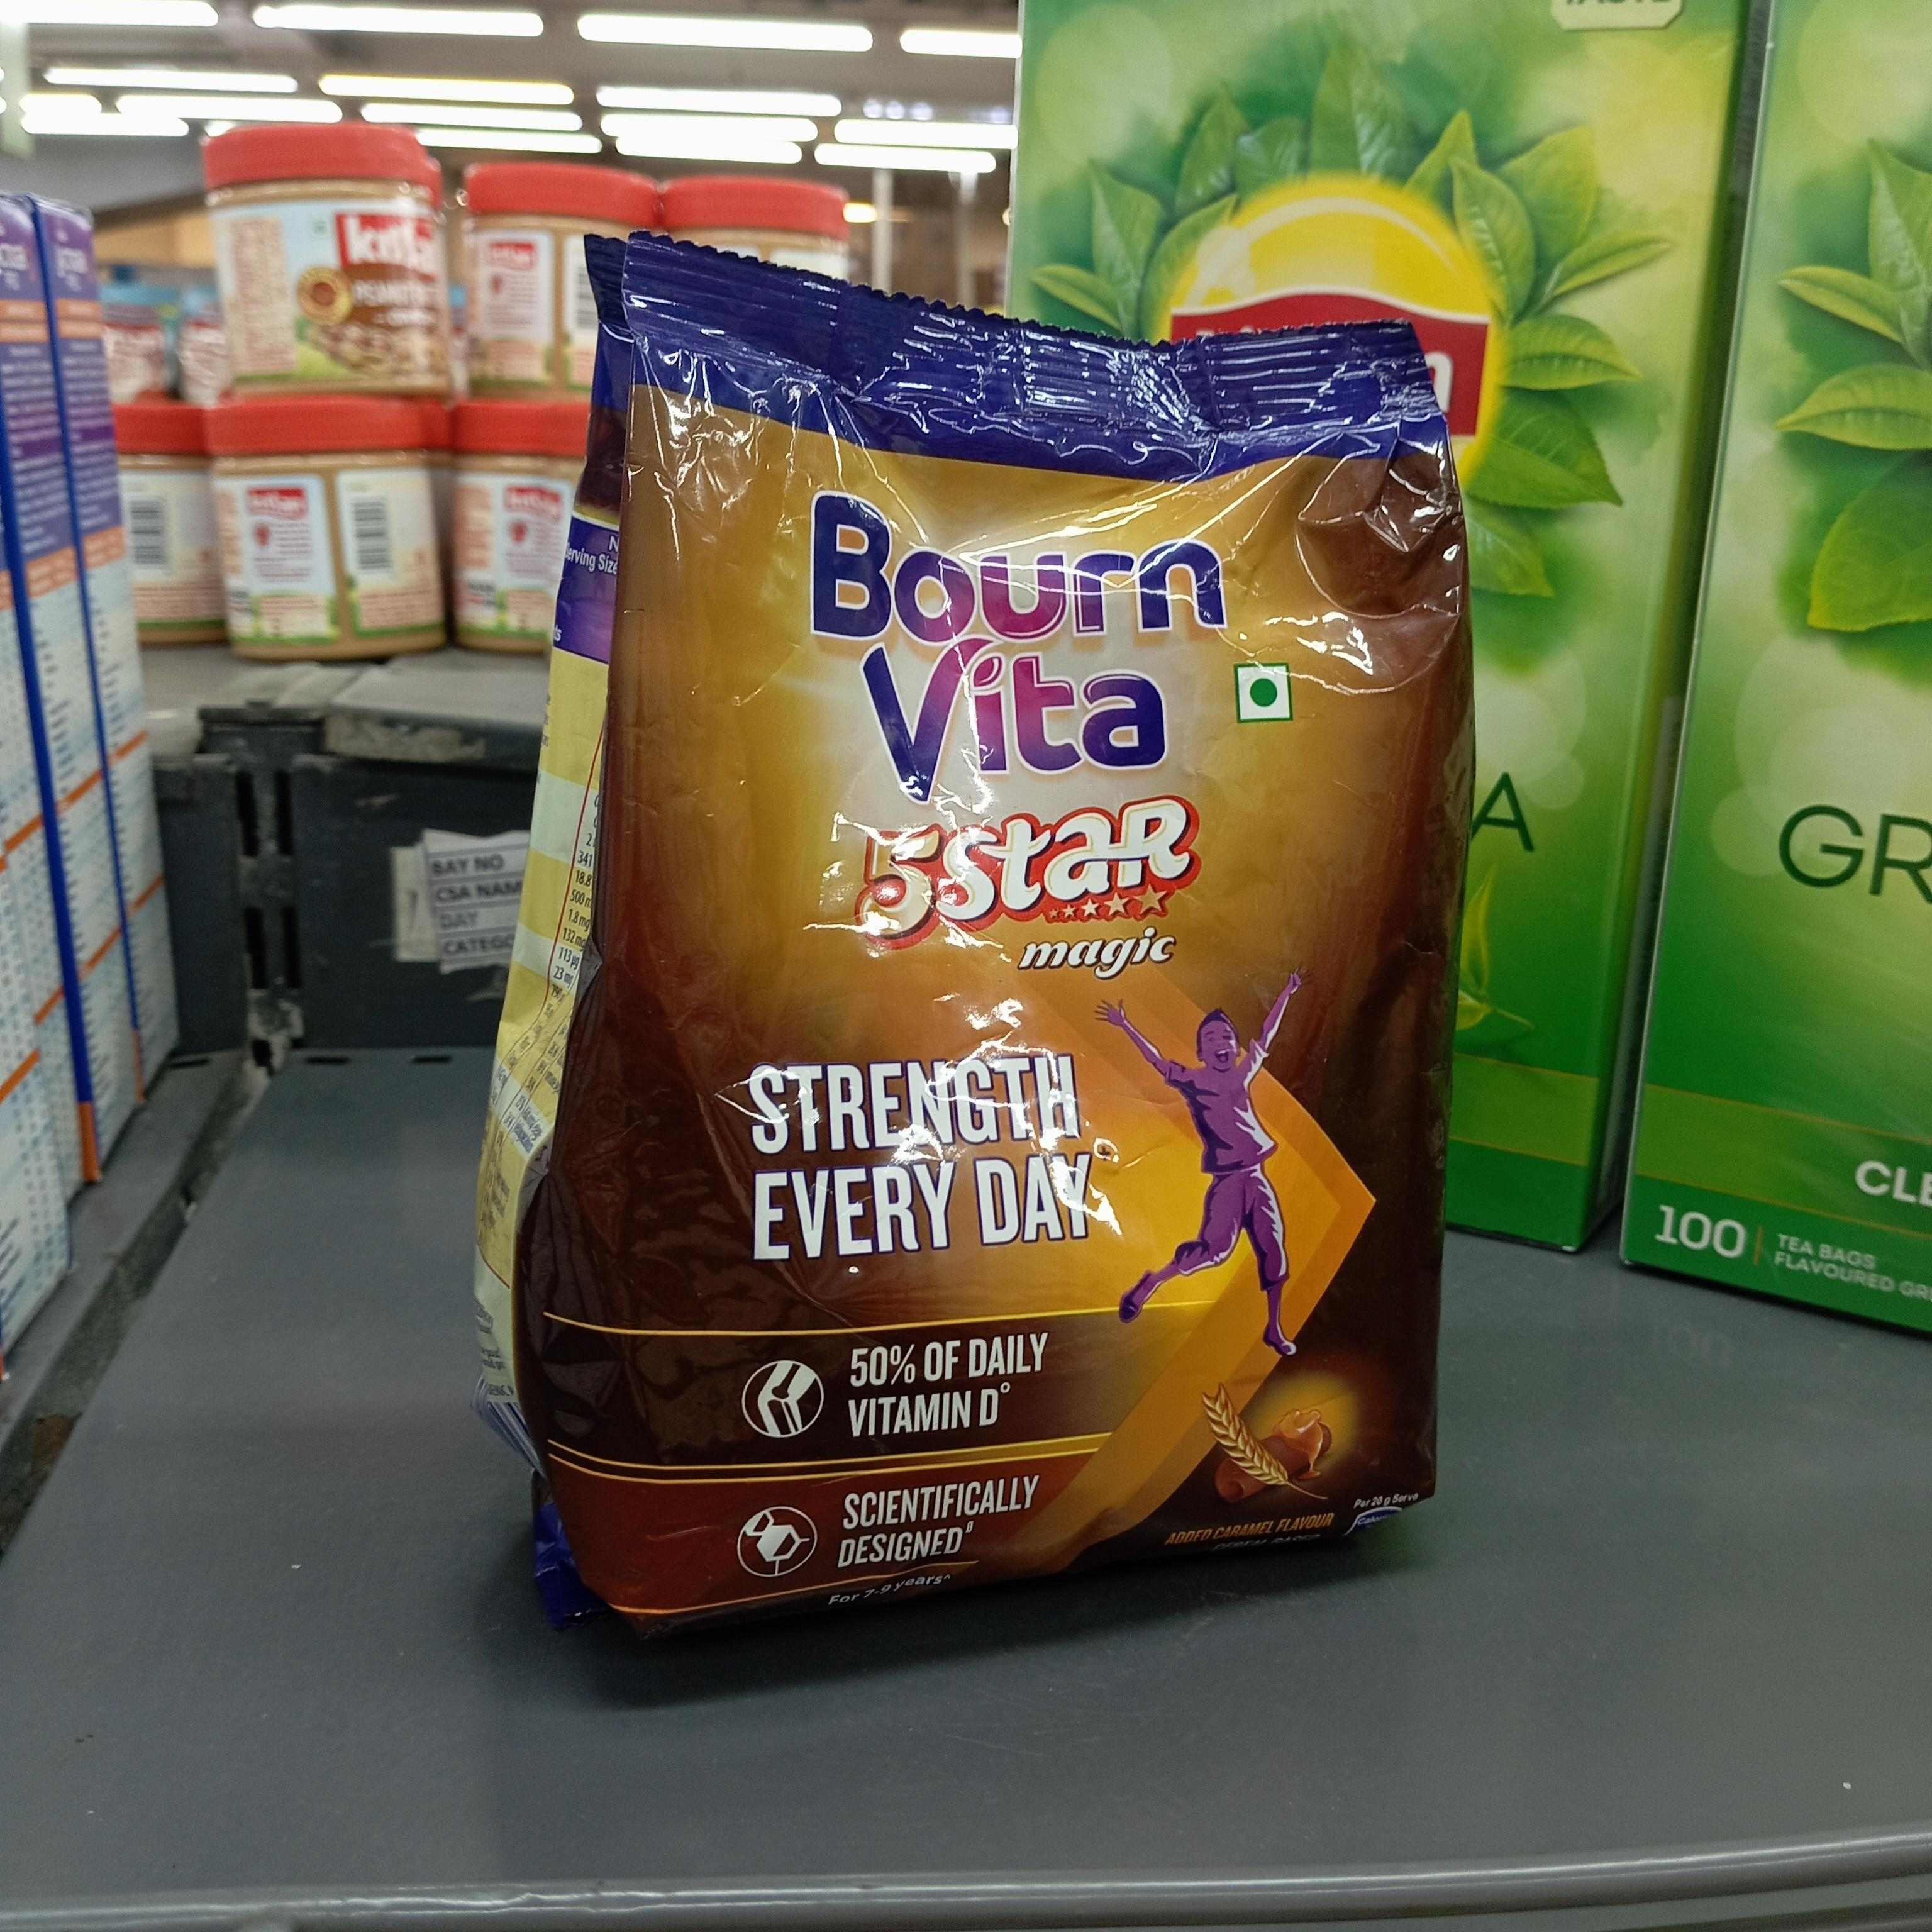BOURN_VITA_FIVE_STAR_MAGIC_500_G_POUCH: (529, 239, 1460, 1617)
